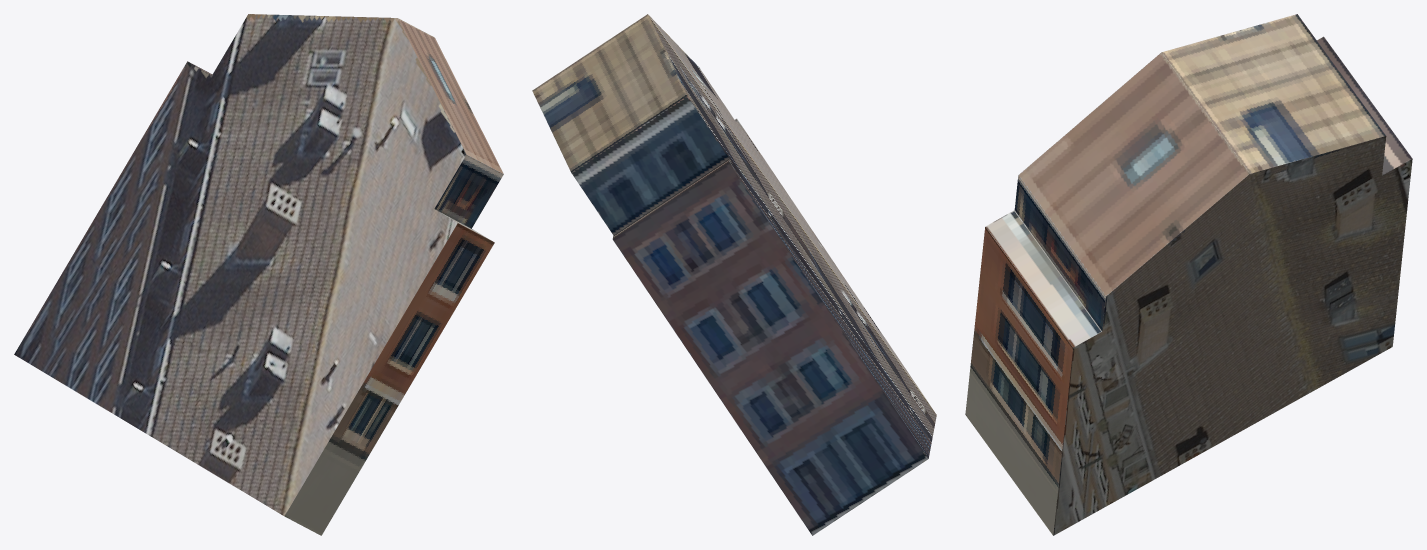
The picture shows the model from 3 angles, left to right: view 1: azimuth 30°, elevation 25°; view 2: azimuth 150°, elevation 25°; view 3: azimuth 270°, elevation 25°; orthographic projection. The views are drawn at different scales.
Visible parts, largest first — view 1: BAG_0599100000650045 (×2); view 2: BAG_0599100000650045 (×2); view 3: BAG_0599100000650045 (×2).
Boxes of the visible parts, x1,y1,x2,y2 form: BAG_0599100000650045 (×2): [14, 14, 503, 535]; BAG_0599100000650045 (×2): [532, 14, 936, 535]; BAG_0599100000650045 (×2): [965, 14, 1412, 535].
Size of the model in its own units: 17.26 by 18.42 by 13.44.
1 material, 1 textured.
